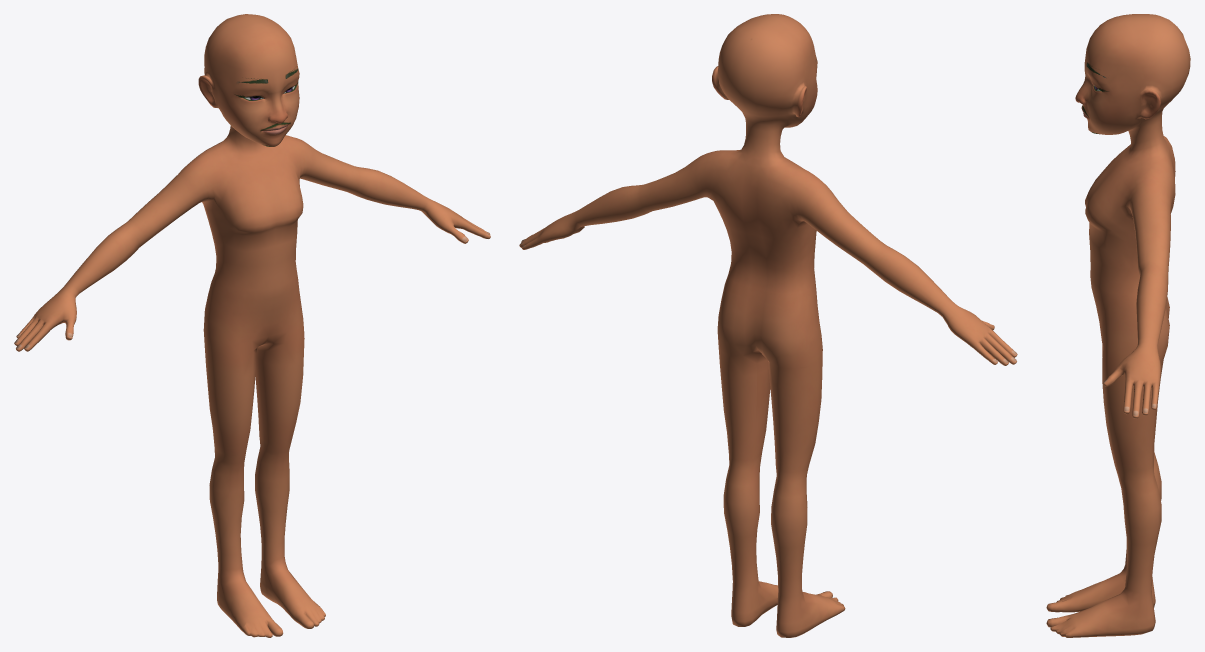
Rendered from frame_0077.glb.
3 views of the same model, side by side, from view 1: azimuth 30°, elevation 25°; view 2: azimuth 150°, elevation 25°; view 3: azimuth 270°, elevation 25° (orthographic). The views are drawn at different scales.
Visible parts, largest first — view 1: frame_0077_head_geo; view 2: frame_0077_head_geo; view 3: frame_0077_head_geo.
Boxes of the visible parts, x1=… form: frame_0077_head_geo: x1=14, y1=14, x2=490, y2=637; frame_0077_head_geo: x1=519, y1=14, x2=1017, y2=637; frame_0077_head_geo: x1=1046, y1=14, x2=1190, y2=637.
Size of the model in its own units: 1.28 by 1.5 by 0.3253.
Materials: 3 (3 with a texture image).
